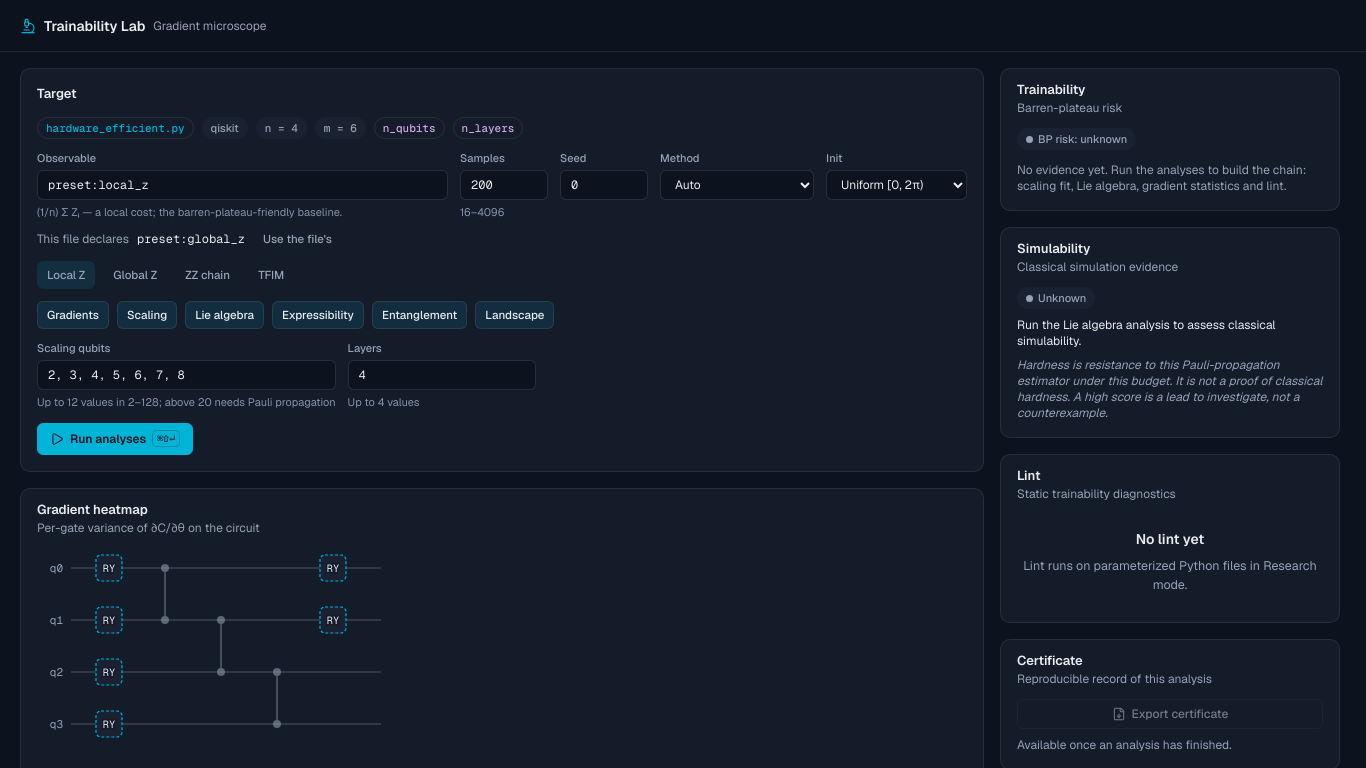
Test: TargetBar interactions › writes presets into the observable field
Expected: the field labelled "Observable" holds "preset:local_z", top-left (37, 170), bottom-right (448, 200)
Click the button "TFIM". click: (271, 275)
box: top-left (248, 261), bottom-right (294, 289)
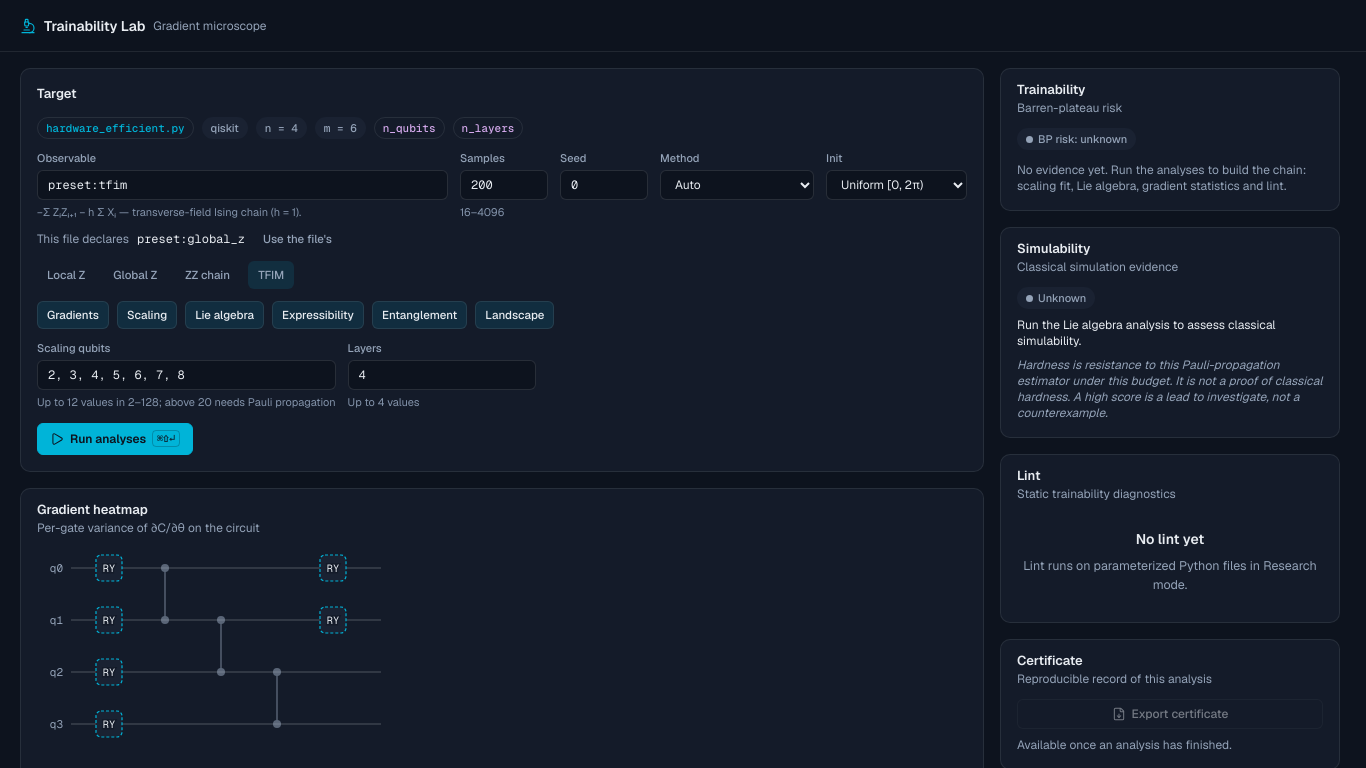
Expected: the field labelled "Observable" holds "preset:tfim", top-left (37, 170), bottom-right (448, 200)
